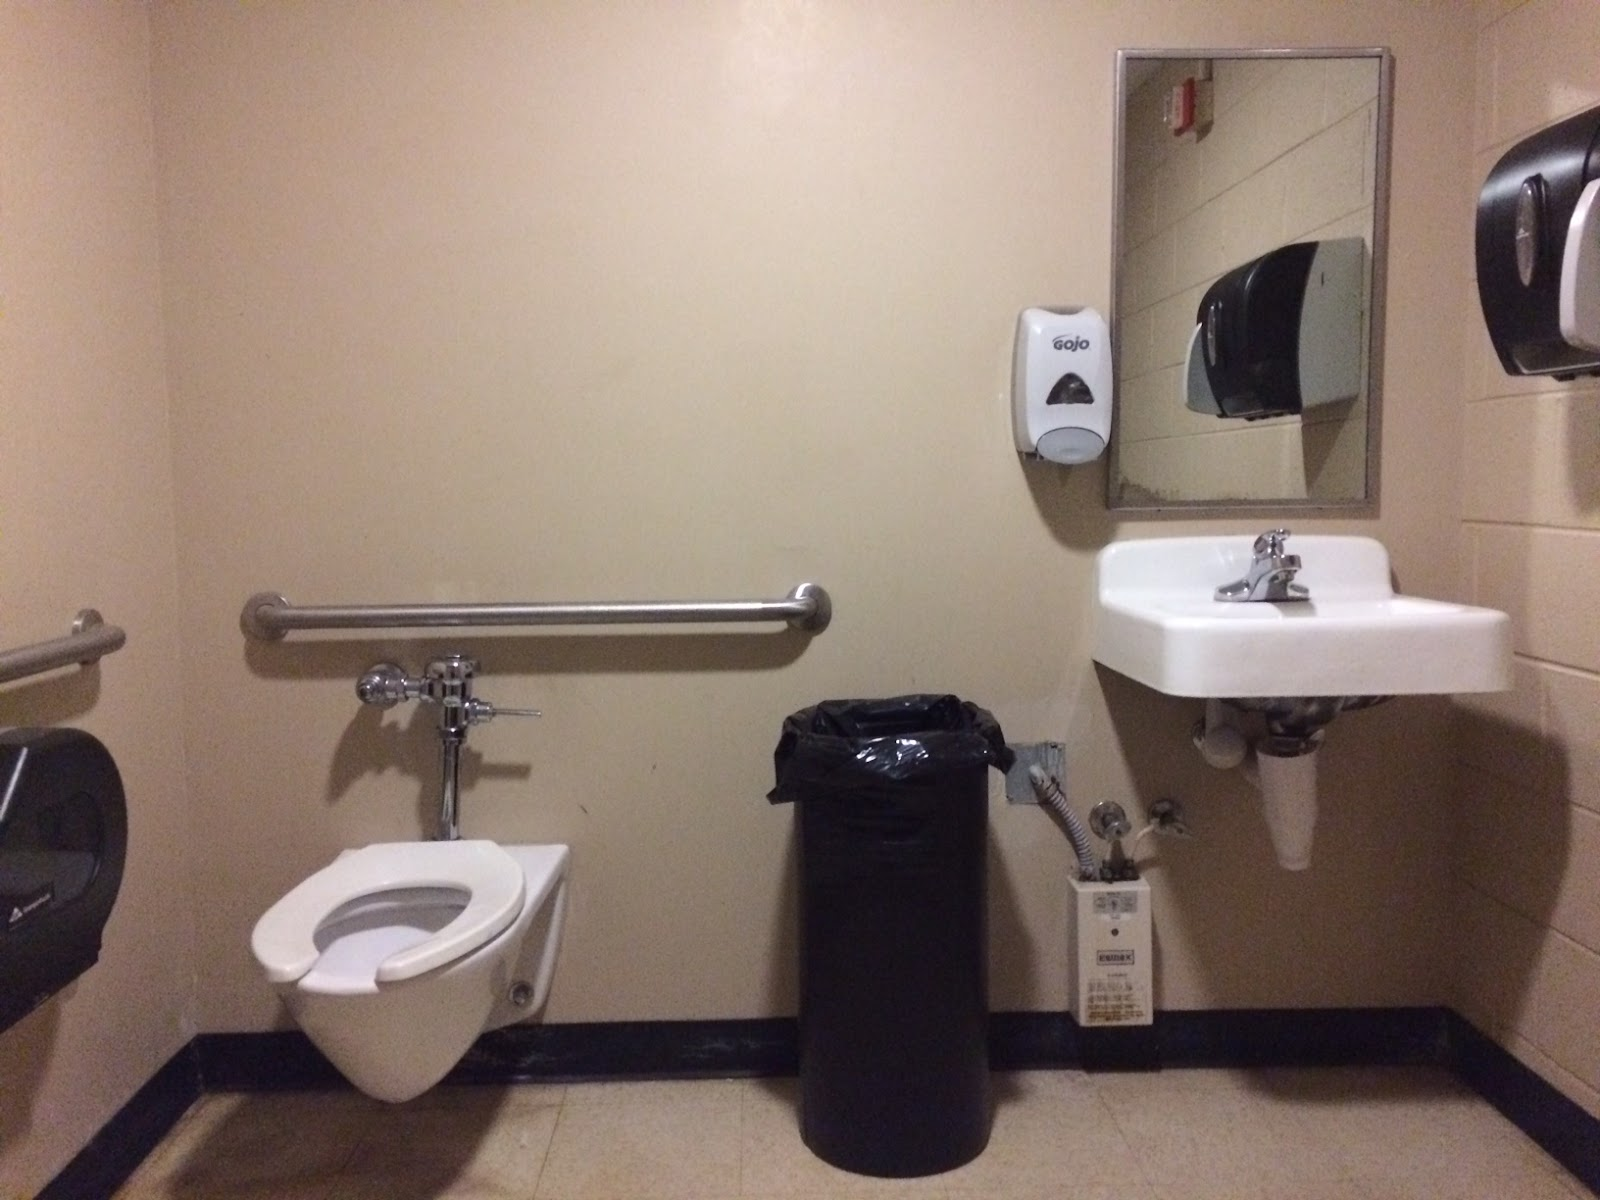dispenser: (1, 725, 132, 1032), (1460, 113, 1600, 378), (1180, 229, 1356, 418), (1015, 299, 1112, 465)
faucet: (1217, 529, 1317, 610)
restroom_assist_bar: (243, 580, 838, 644), (1, 603, 129, 703)
sink: (1095, 534, 1519, 695)
toilet: (247, 837, 573, 1104)
toilet_handle: (466, 700, 546, 730)
waste_bin: (766, 693, 1015, 1179)
